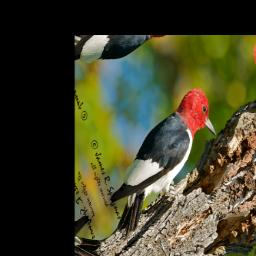Woodpecker: (93, 81, 232, 246)
